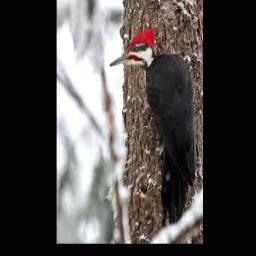Woodpecker: (110, 27, 193, 226)
